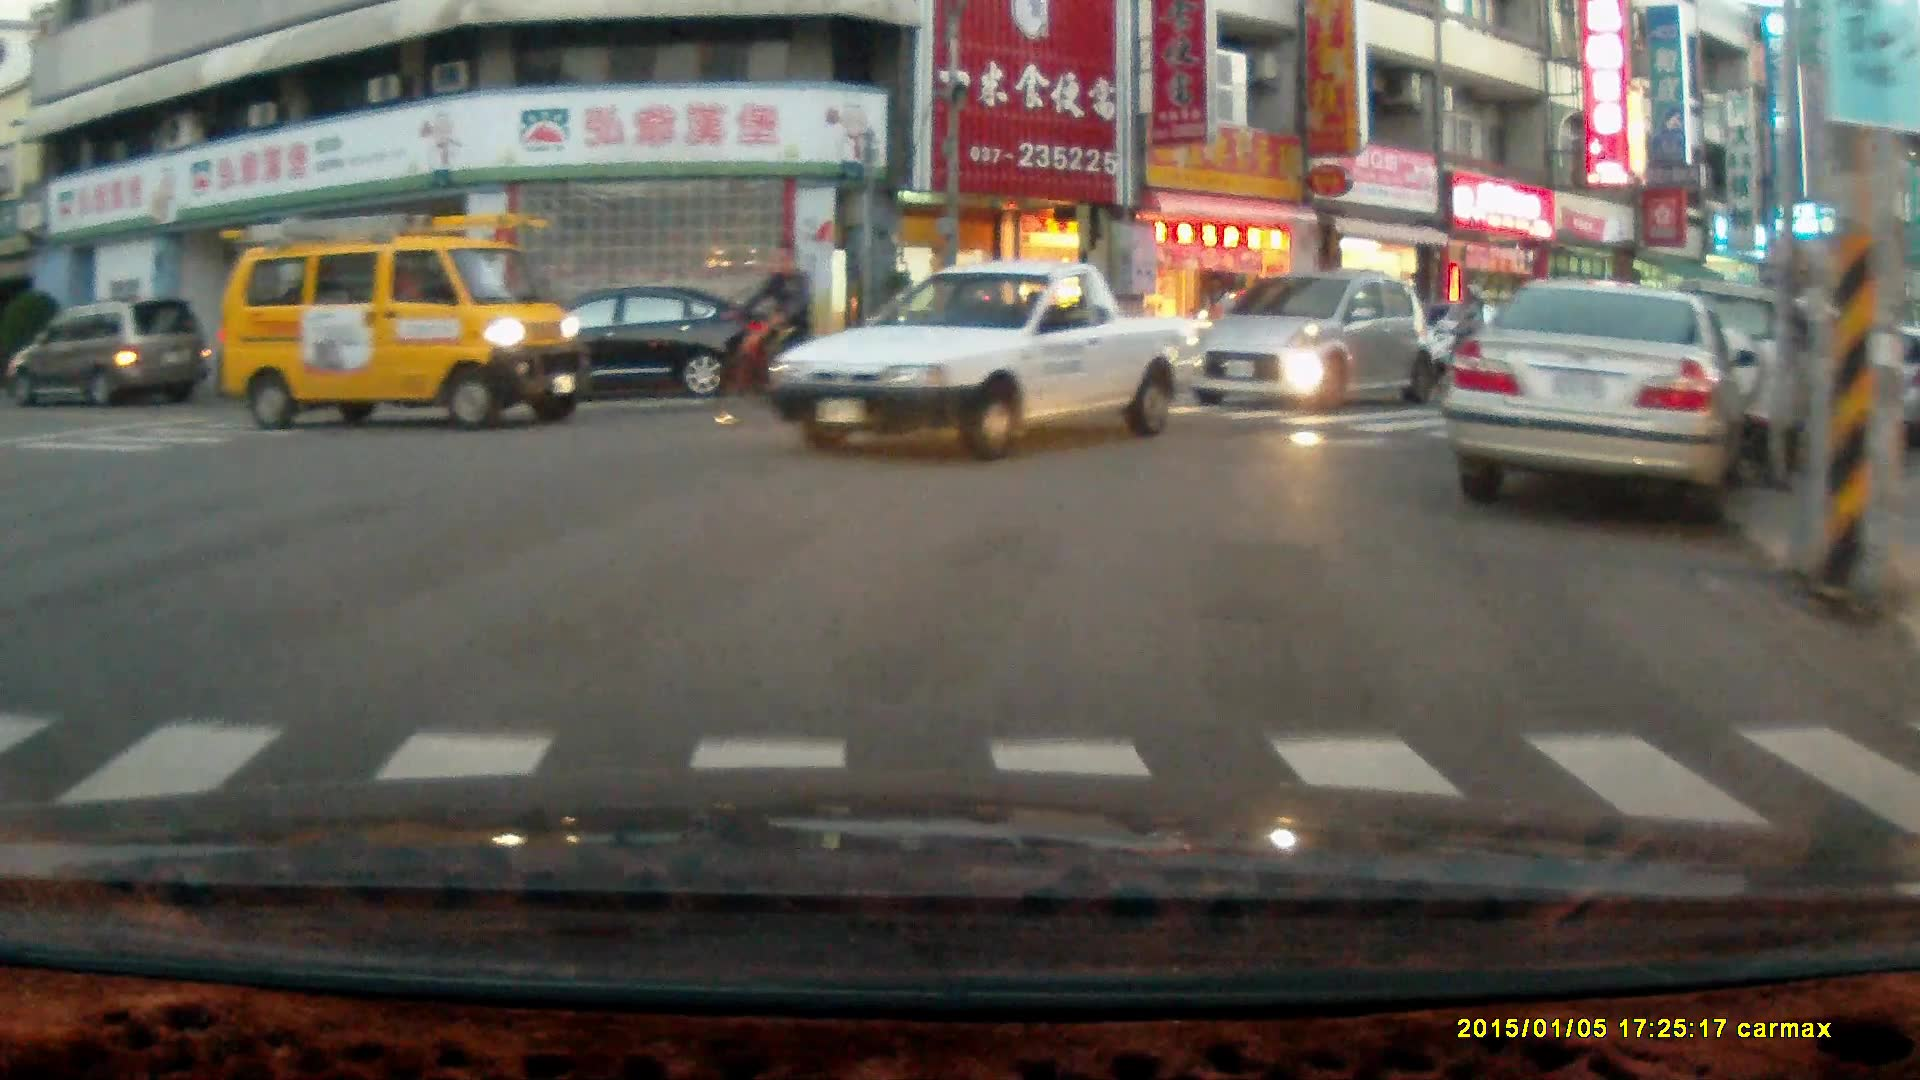pedestrian: (1199, 269, 1236, 365)
rider: (704, 239, 836, 424), (1418, 277, 1489, 392)
vehicle: (768, 262, 1205, 468), (1449, 278, 1764, 533), (213, 217, 586, 430), (1617, 292, 1891, 484), (484, 284, 781, 411), (1188, 273, 1439, 418), (4, 296, 215, 415)
